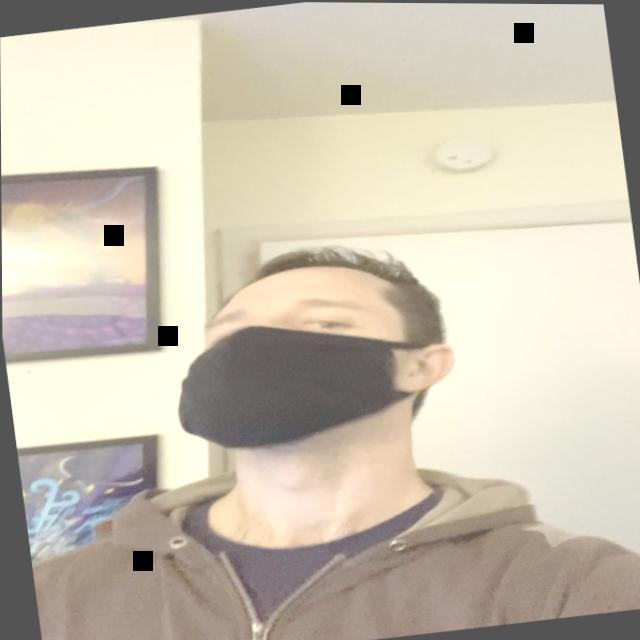Mask: (163, 231, 470, 469)
